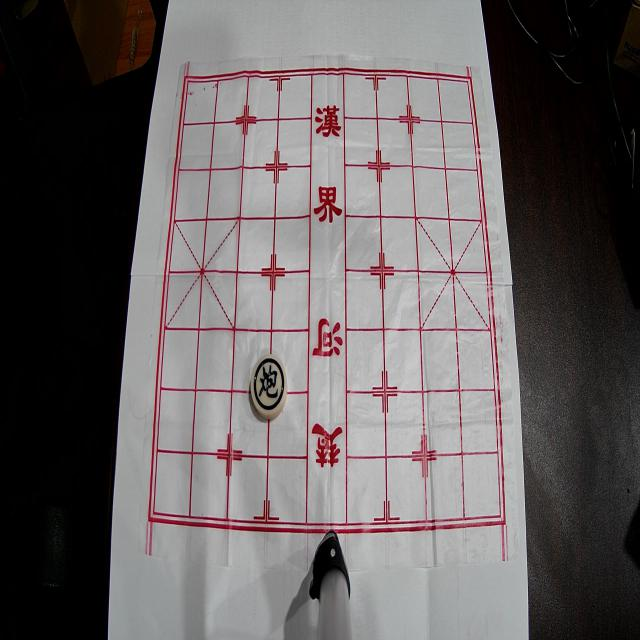black-cannon: (250, 354, 288, 420)
